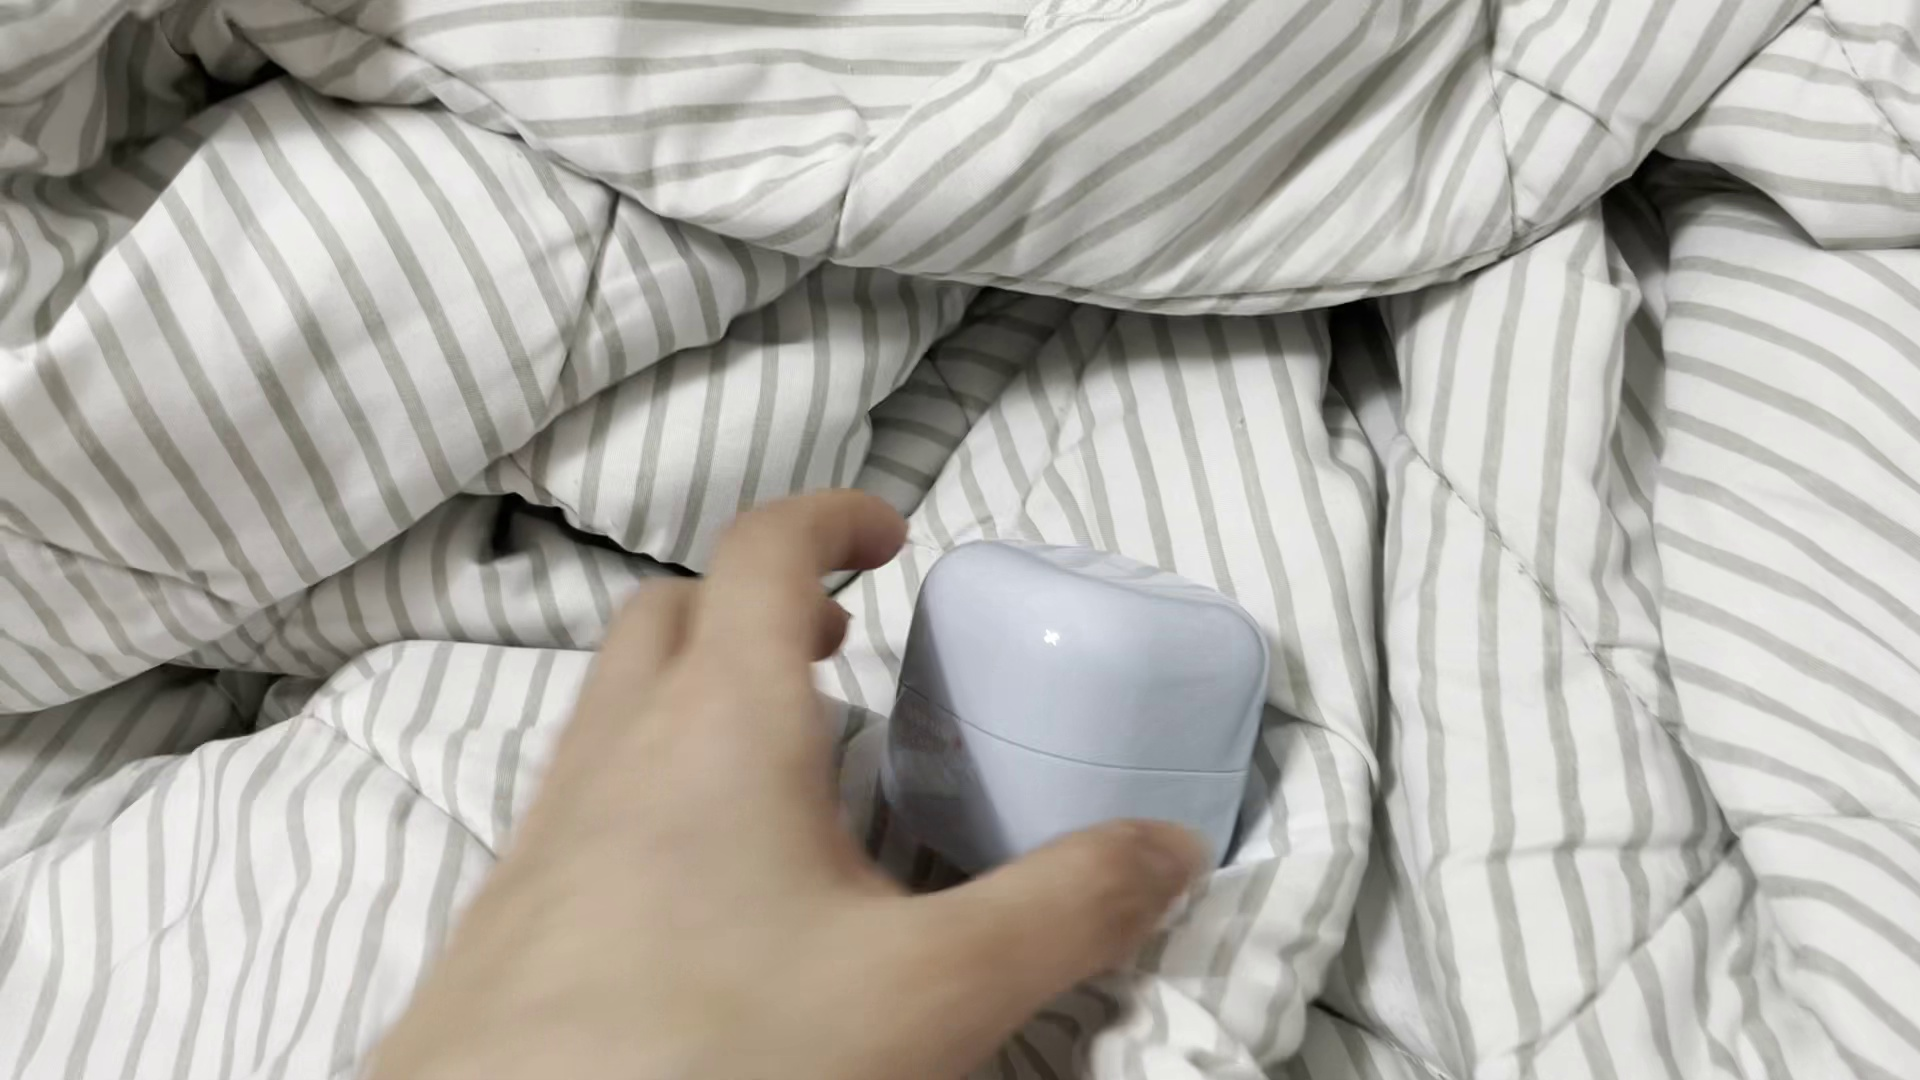cream: (889, 537, 1271, 887)
